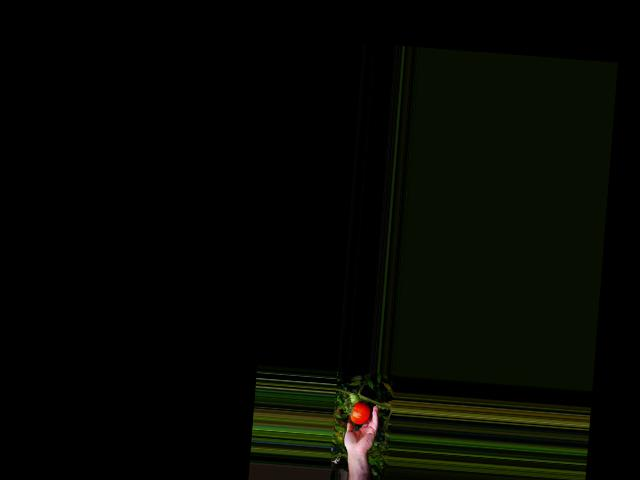tomato: (349, 400, 371, 425)
